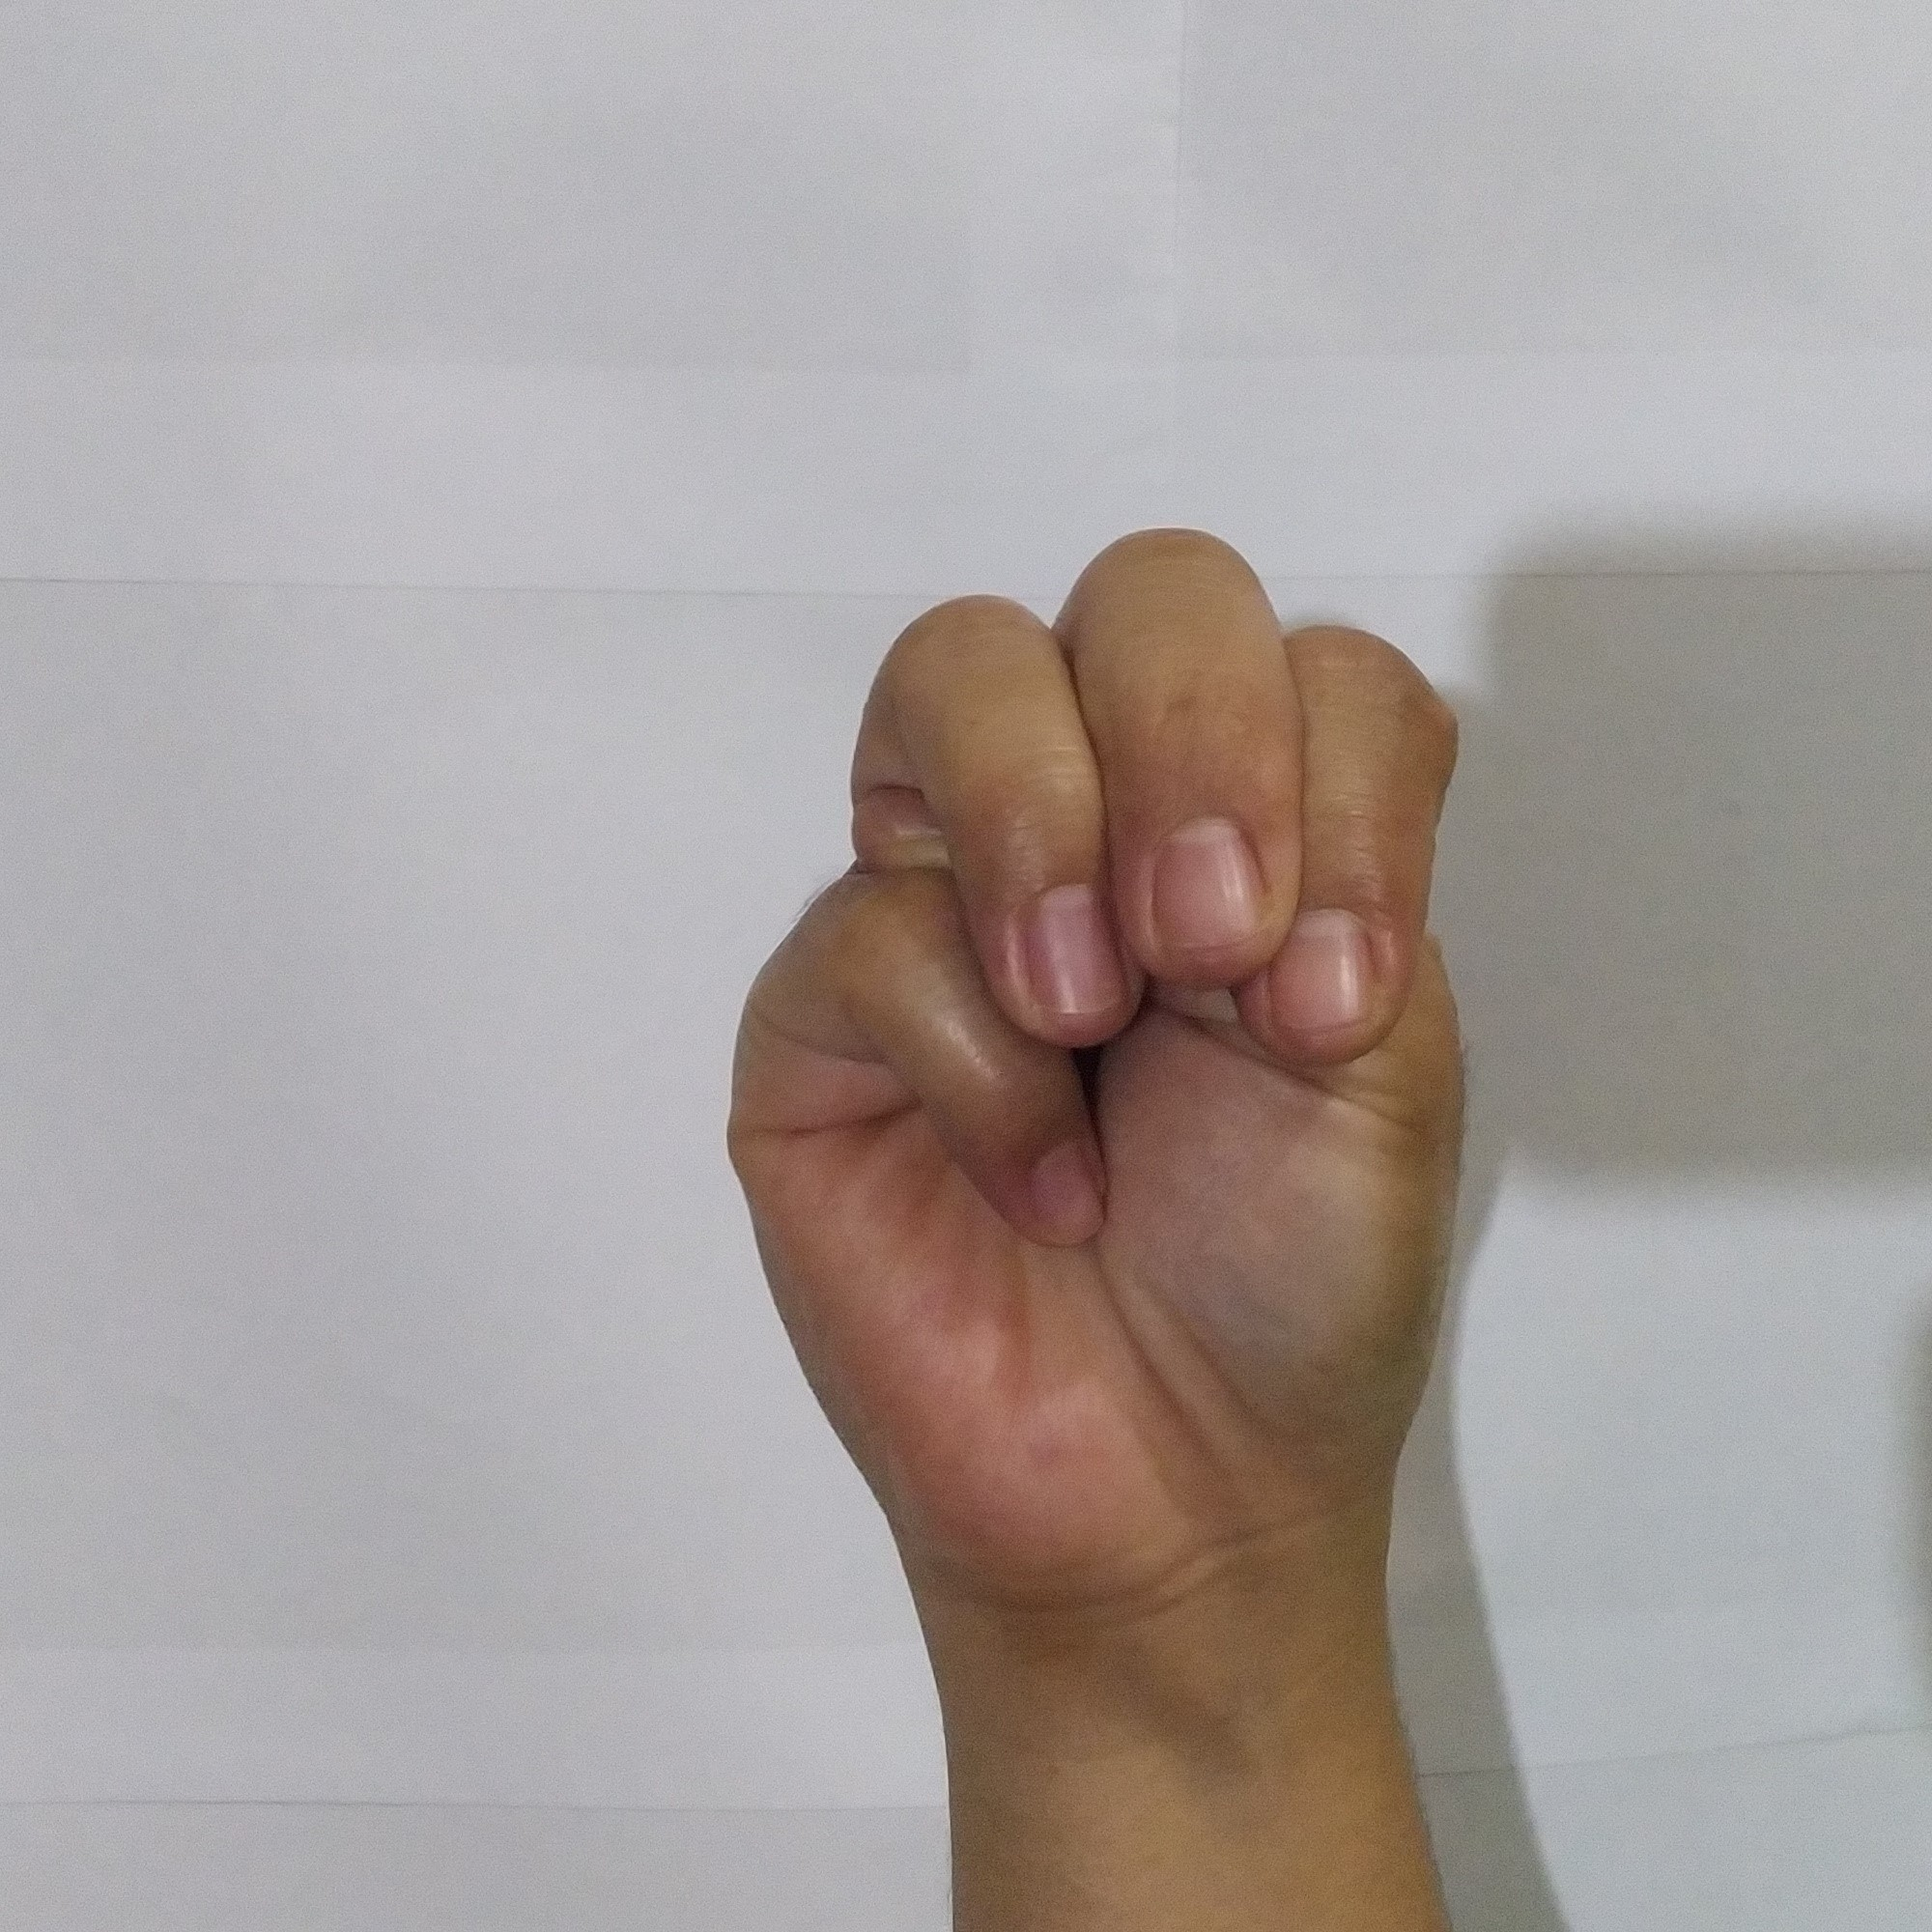M: (692, 499, 1516, 1573)
